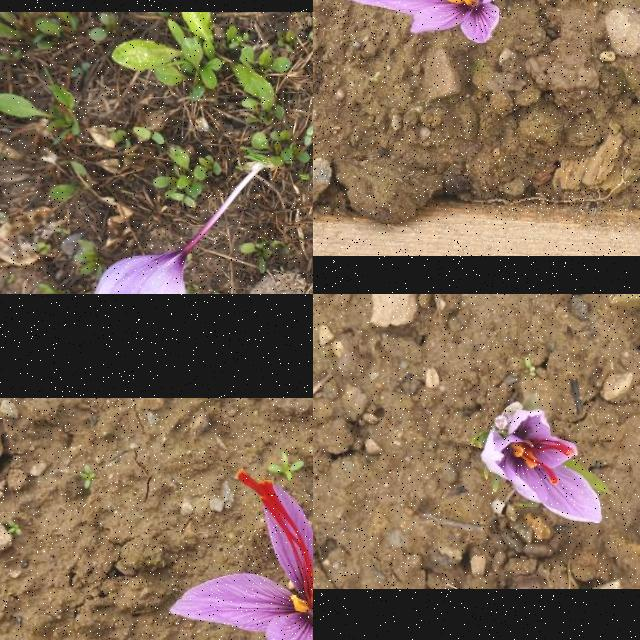flower: (169, 443, 313, 640), (483, 408, 602, 524), (347, 0, 505, 42), (89, 253, 197, 294)
